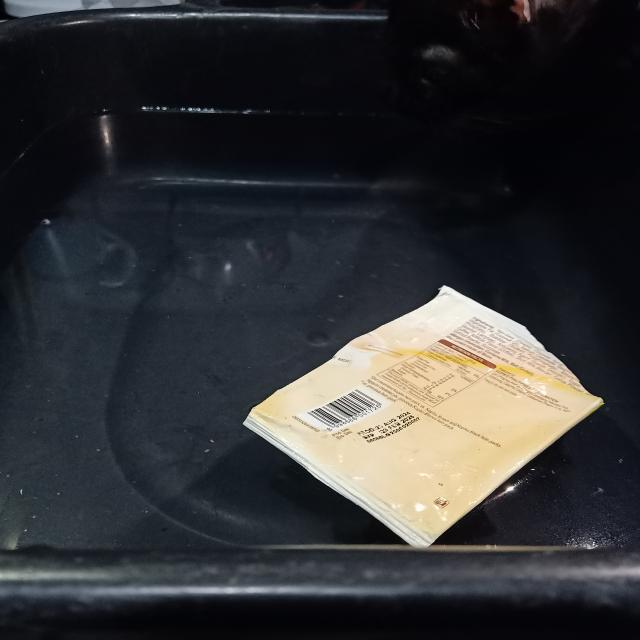Plastic Wrapper: (244, 290, 603, 548)
